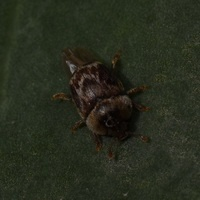insect: (63, 48, 149, 151)
